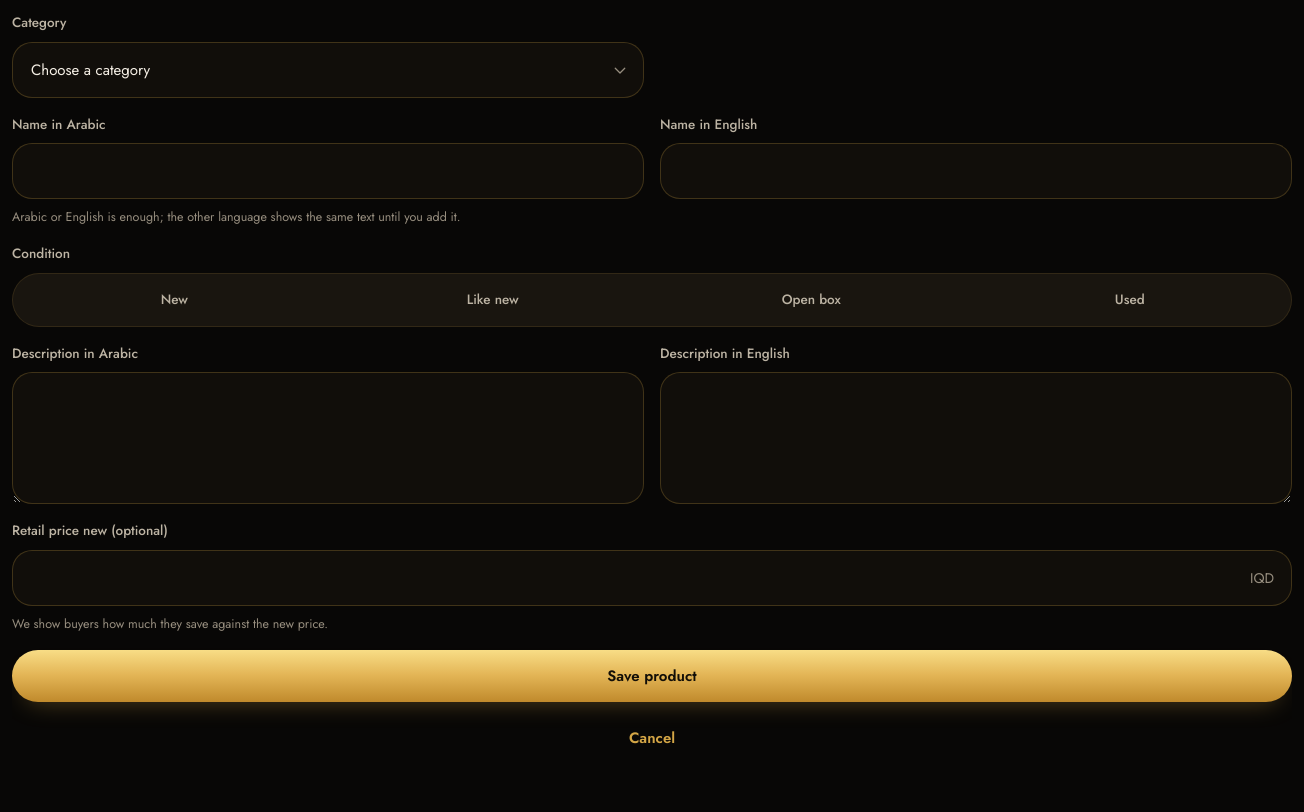
Test: ProductForm: condition as a segmented choice › has no default: the seller has to pick one
Select "Cameras" in the dropdown labelled "Category" at (328, 70), box [12,42,644,98]
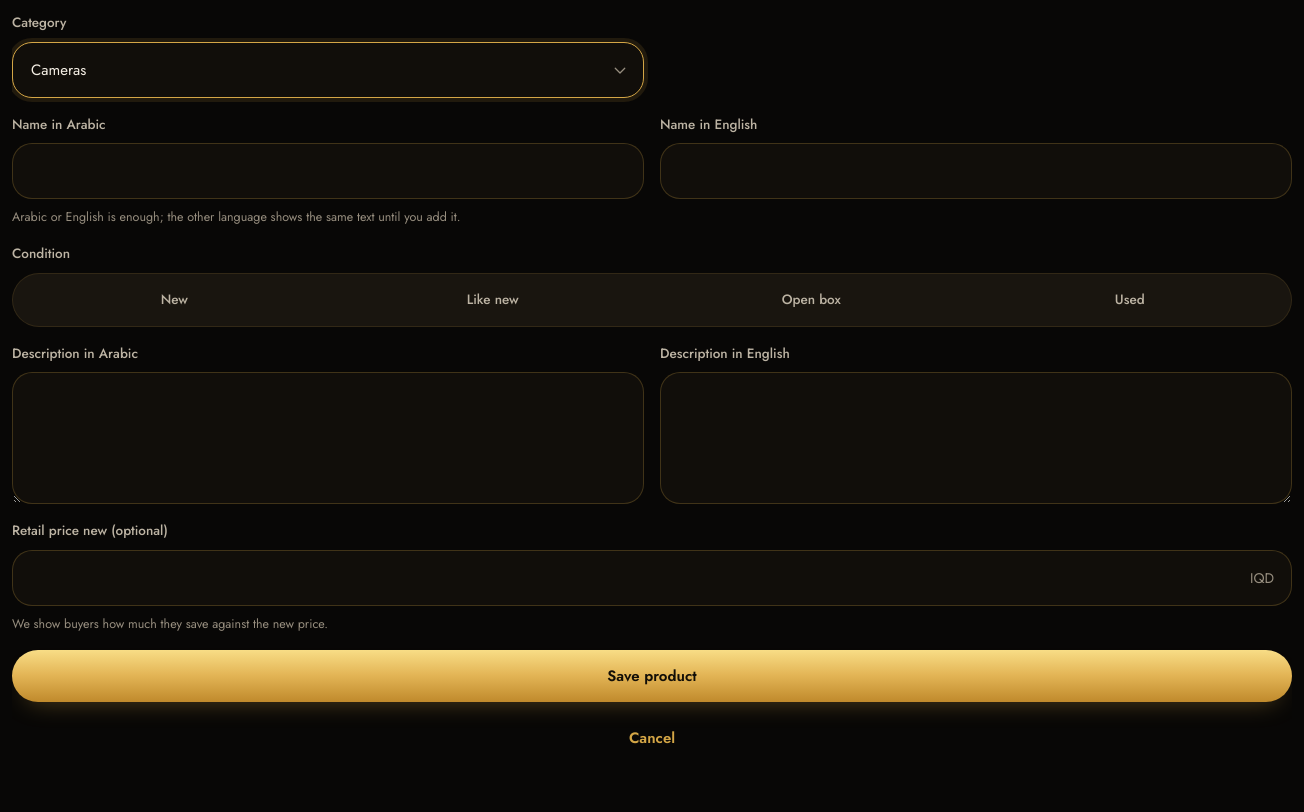
Type "Camera" into the field labelled "Name in English".
click(976, 171); type("Camera")  # box [660,143,1292,199]
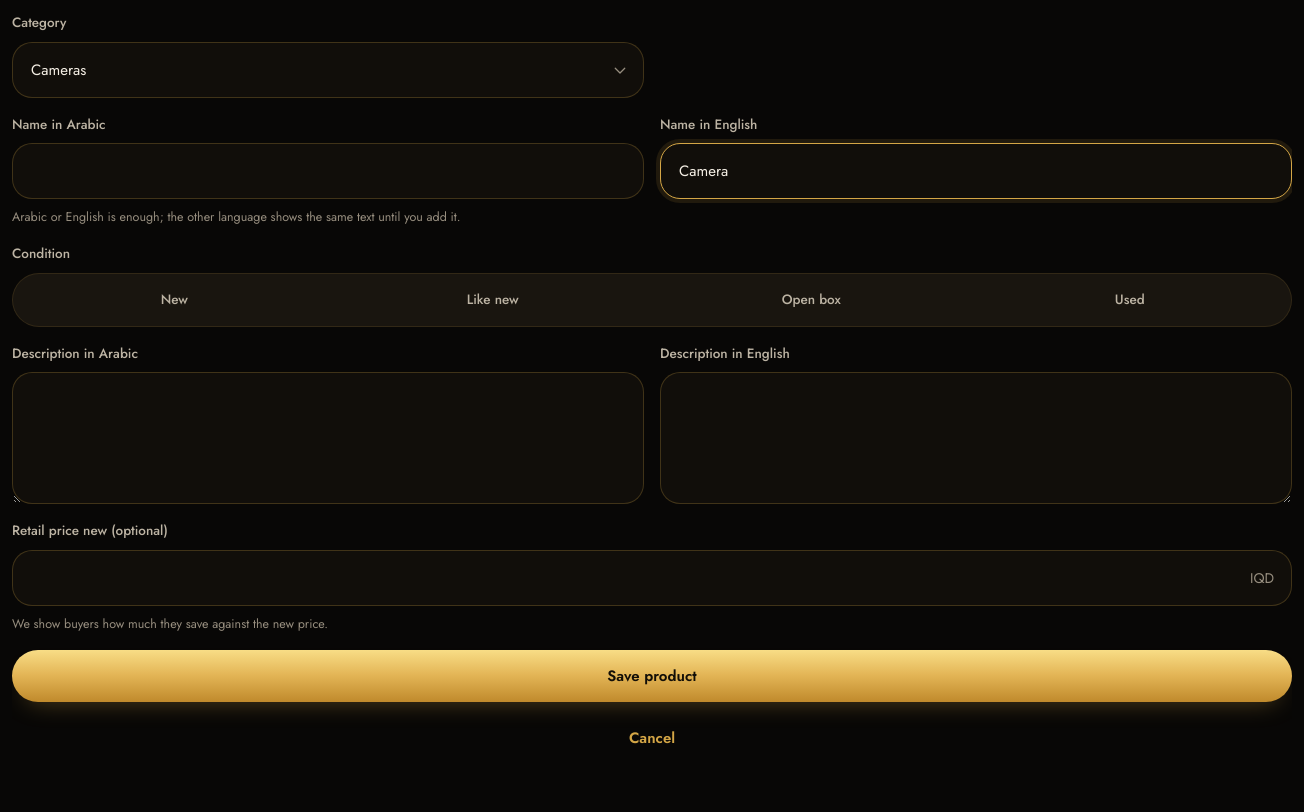
Type "Works." into the text box labelled "Description in English".
click(976, 438); type("Works.")  # box [660,372,1292,504]
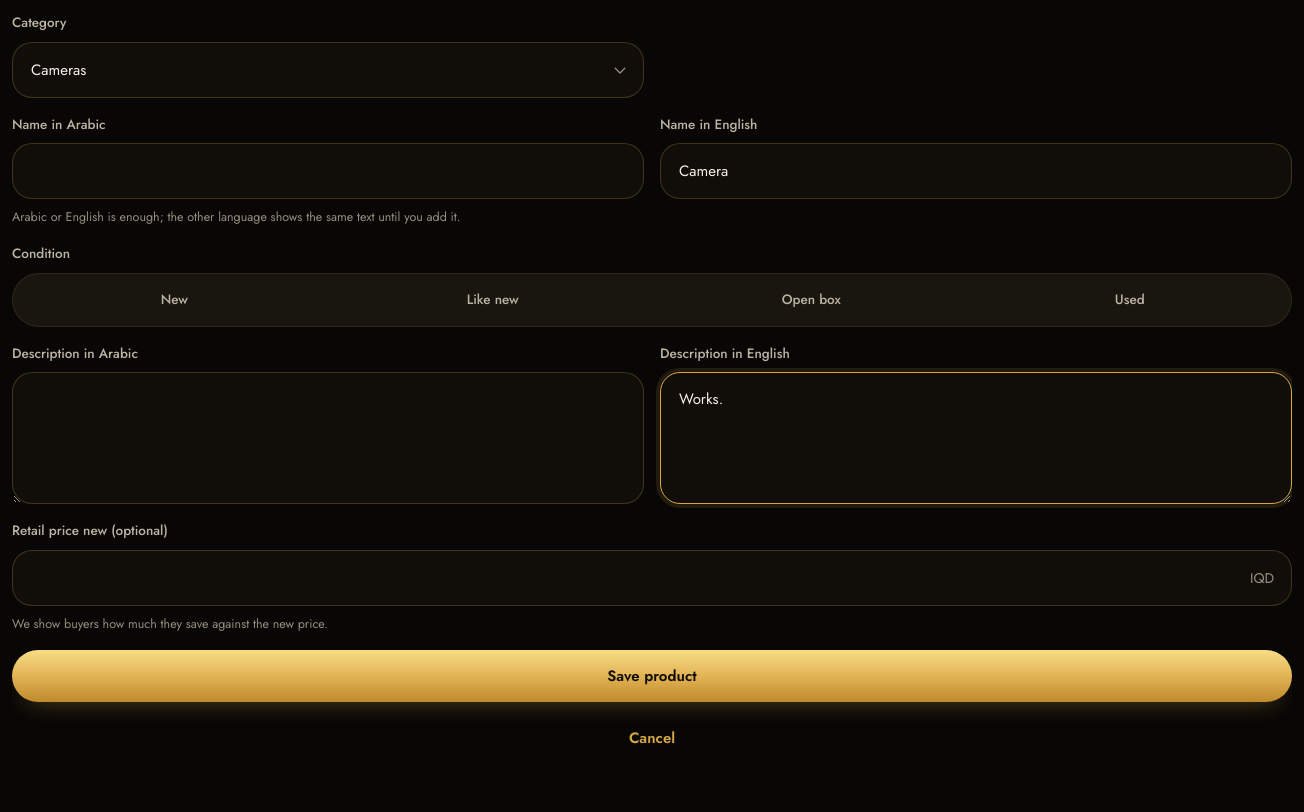
Click the button "Save product".
click(652, 676)  # box [12,650,1292,702]
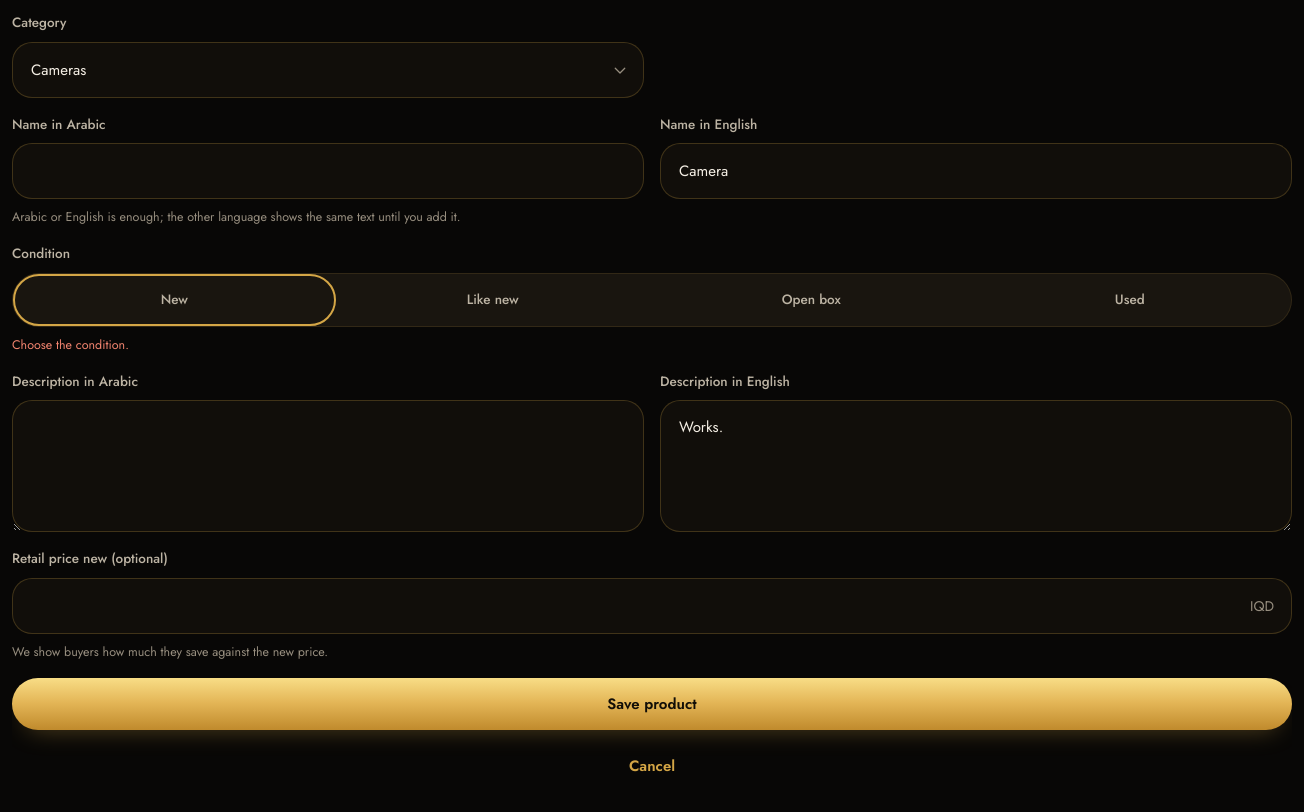
Expected: the text "Choose the condition." is shown, [12,336,129,354]
